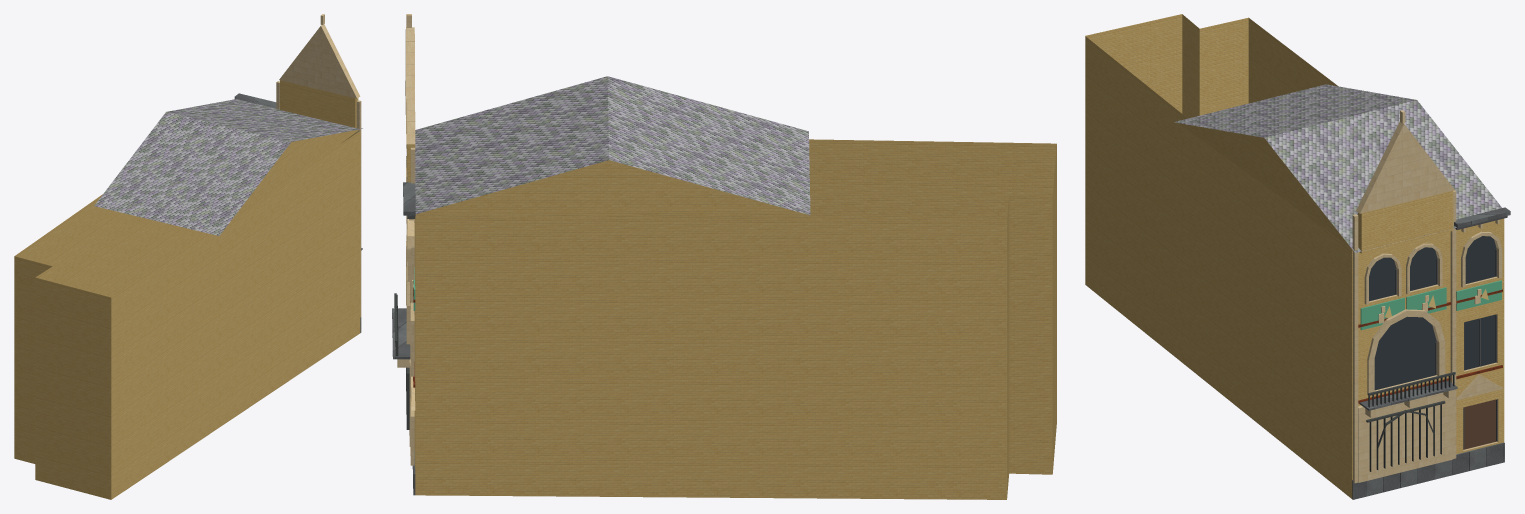
The picture shows the model from 3 angles, left to right: view 1: azimuth 30°, elevation 25°; view 2: azimuth 150°, elevation 25°; view 3: azimuth 270°, elevation 25°; orthographic projection. The views are drawn at different scales.
Parts seen in each view (by area): view 1: bldg_501637651_landmark; view 2: bldg_501637651_landmark; view 3: bldg_501637651_landmark.
Part boxes in pixels (x1,y1,x2,y2): bldg_501637651_landmark: (14, 14, 362, 499); bldg_501637651_landmark: (392, 14, 1056, 499); bldg_501637651_landmark: (1085, 14, 1510, 499).
Bounding box in the file's own units: 22.94 × 16.7 × 17.05.
12 materials, 6 textured.
